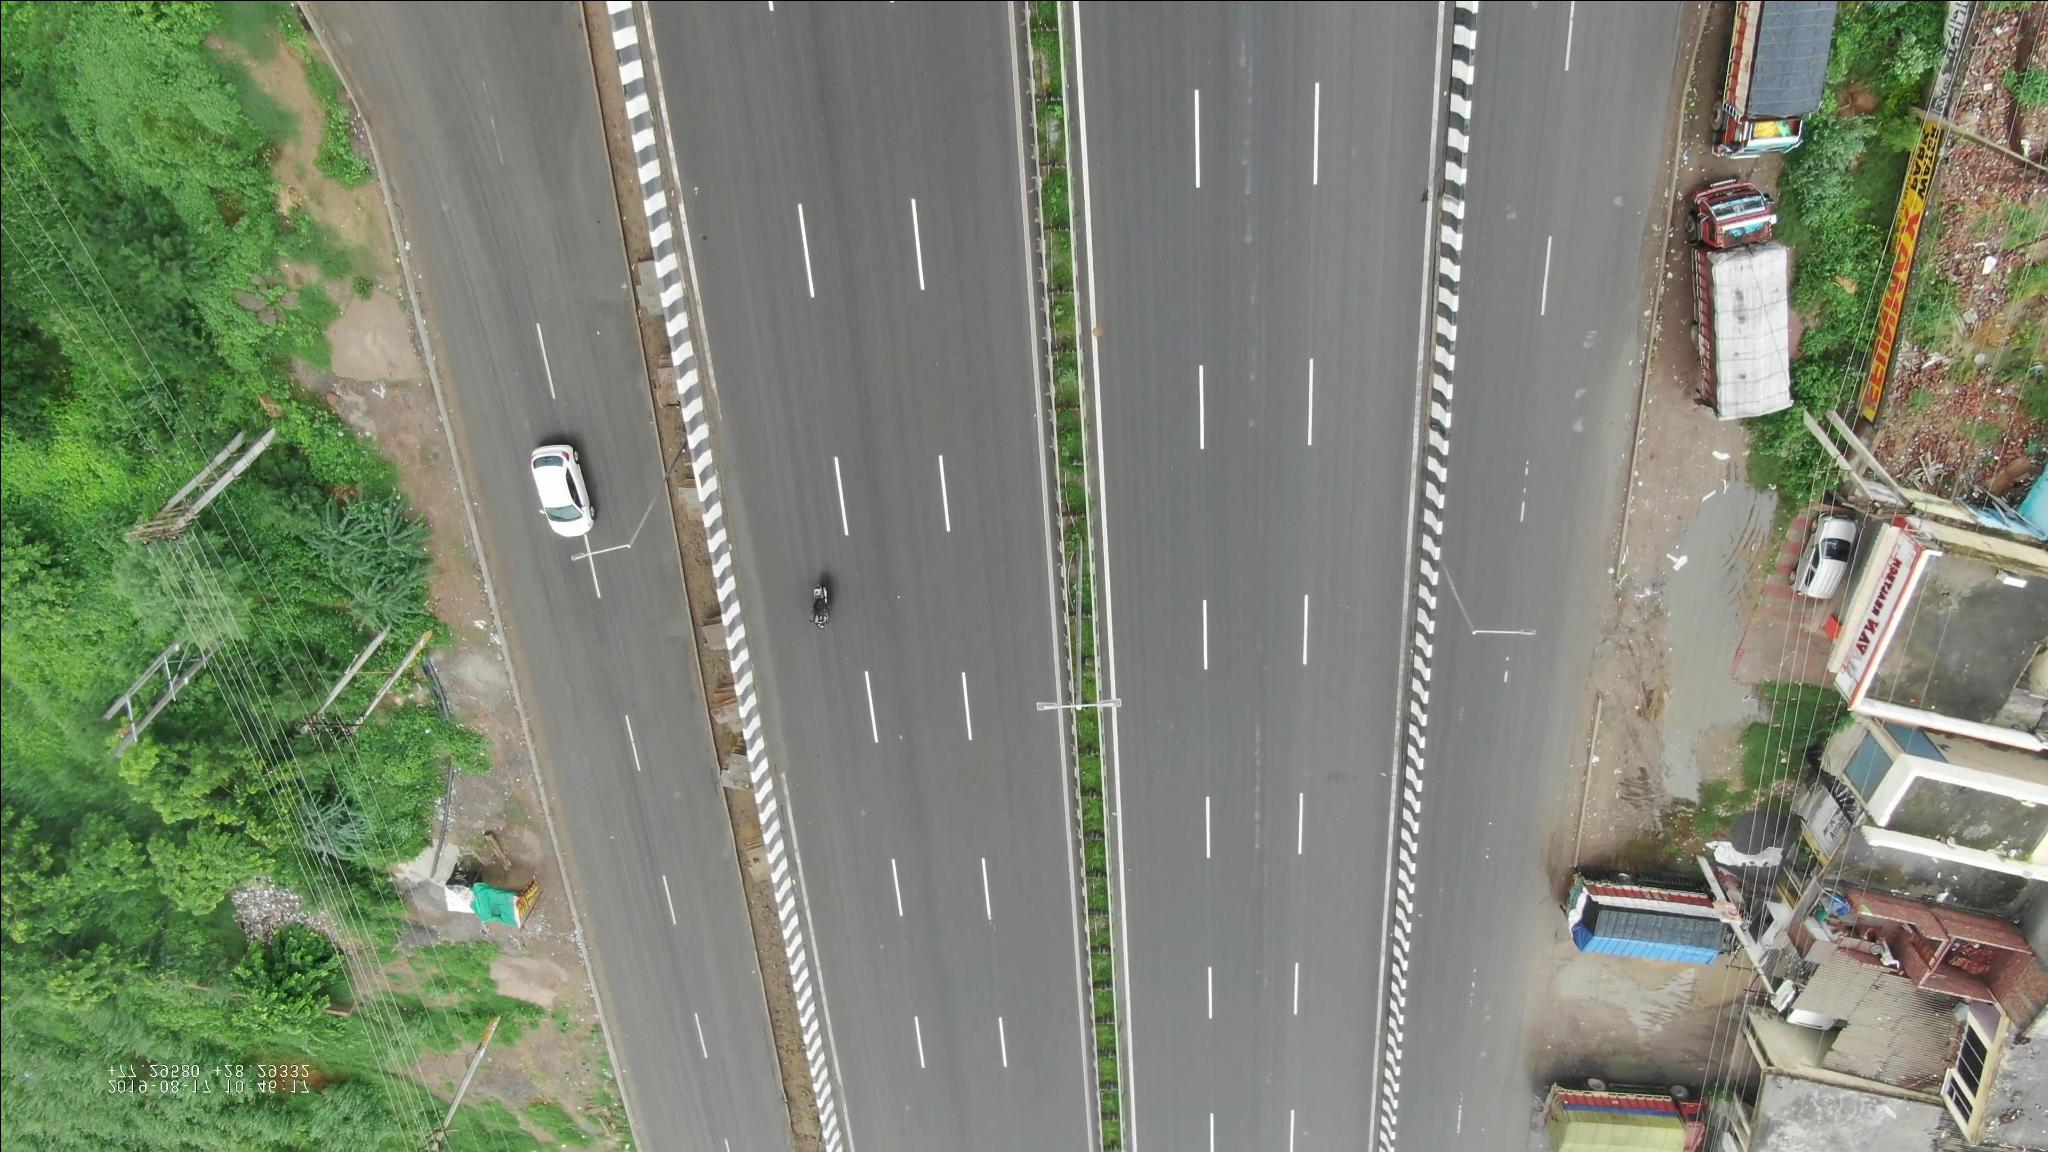Waterlogging: (1632, 475, 1775, 837)
